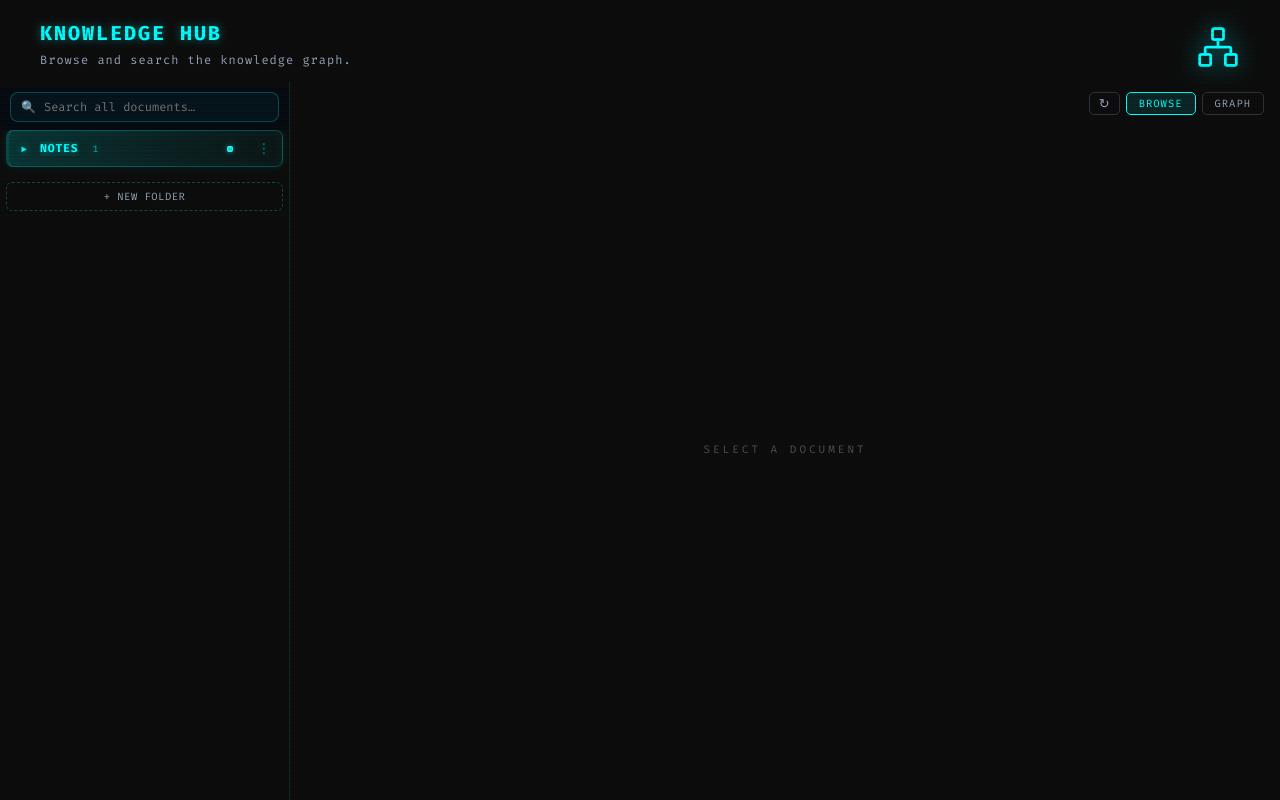
Test case: KnowledgeHub file move › dropping a file on a folder row moves it and reloads the tree
This screenshot has width=1280, height=800.
What coordinates should you click on to do the following:
click the text "notes"
I would click on:
 (59, 148)
Its box is x1=40 y1=141 x2=78 y2=156.
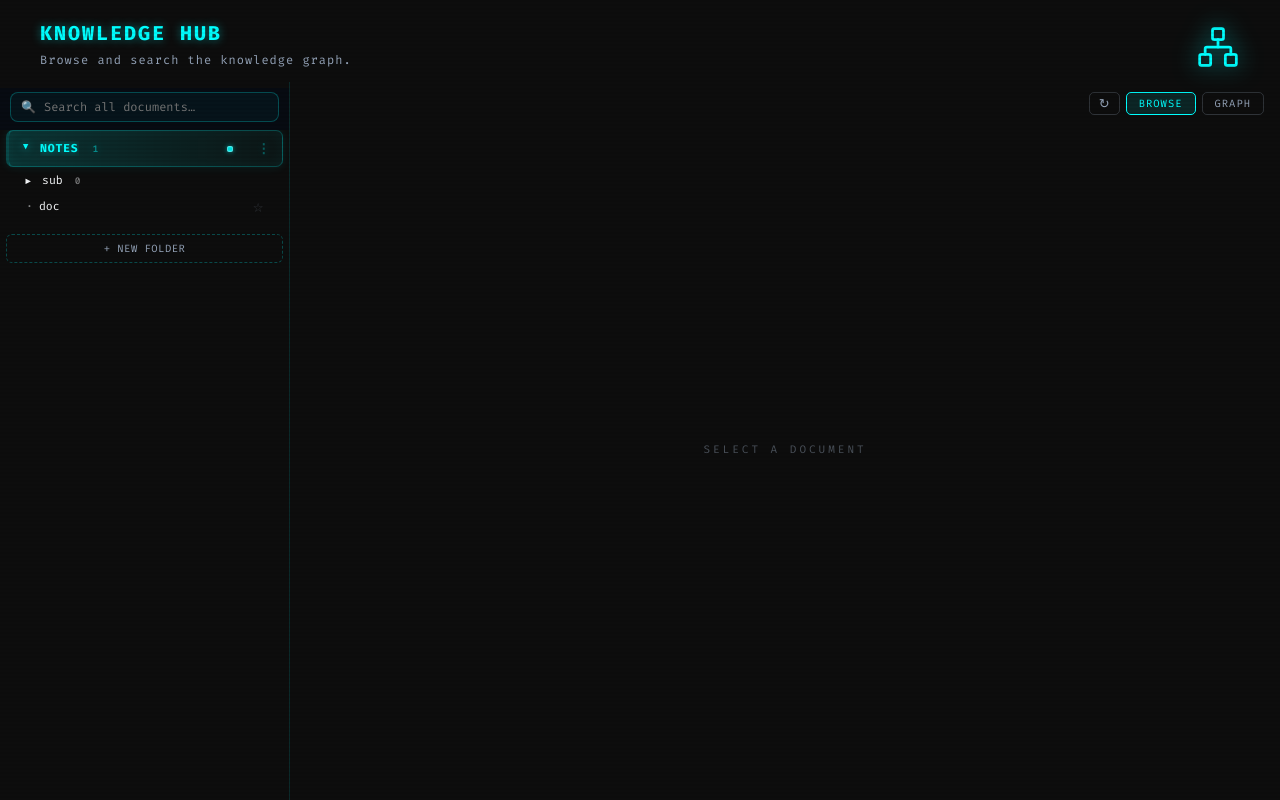
Check: the text "sub" is shown, box x1=42 y1=173 x2=63 y2=188
